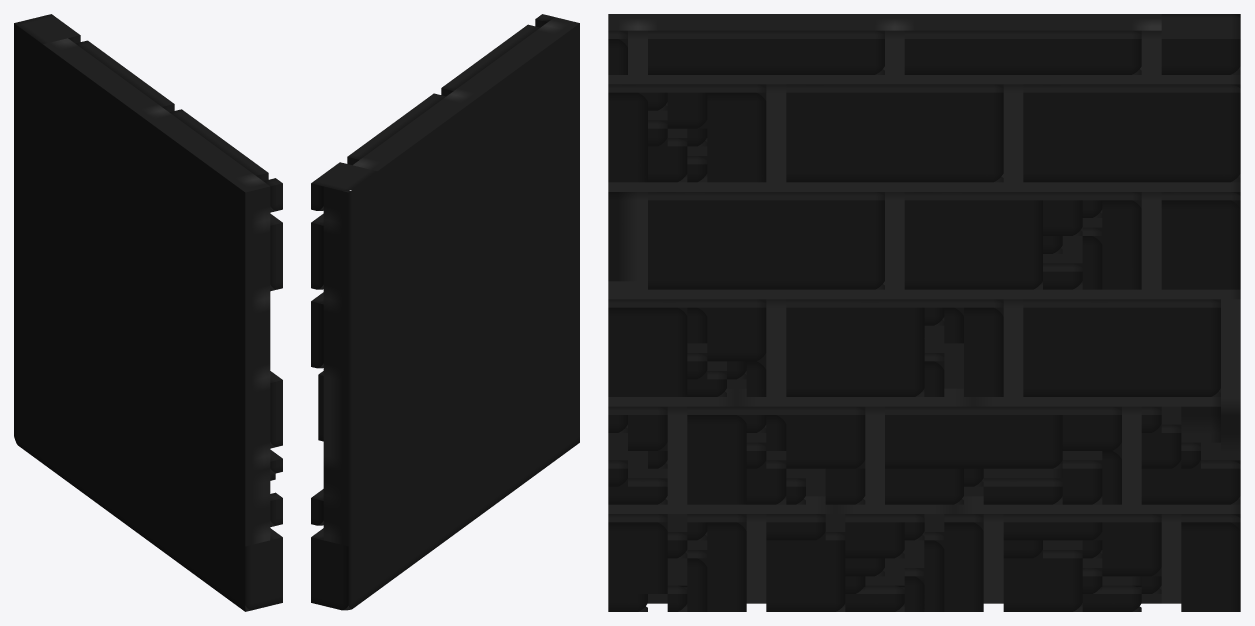
Rendered from StenaM1.dae.
3 views of the same model, side by side, from view 1: azimuth 30°, elevation 25°; view 2: azimuth 150°, elevation 25°; view 3: azimuth 270°, elevation 25° (orthographic). The views are drawn at different scales.
Visible parts, largest first — view 1: StenaM1; view 2: StenaM1; view 3: StenaM1.
Part boxes in pixels (box(x1,y1,x2,y2)): StenaM1: box(14, 14, 282, 611); StenaM1: box(311, 14, 579, 610); StenaM1: box(608, 14, 1240, 611).
Bounding box in the file's own units: 3 × 32 × 32.
Materials: 1 (1 with a texture image).
